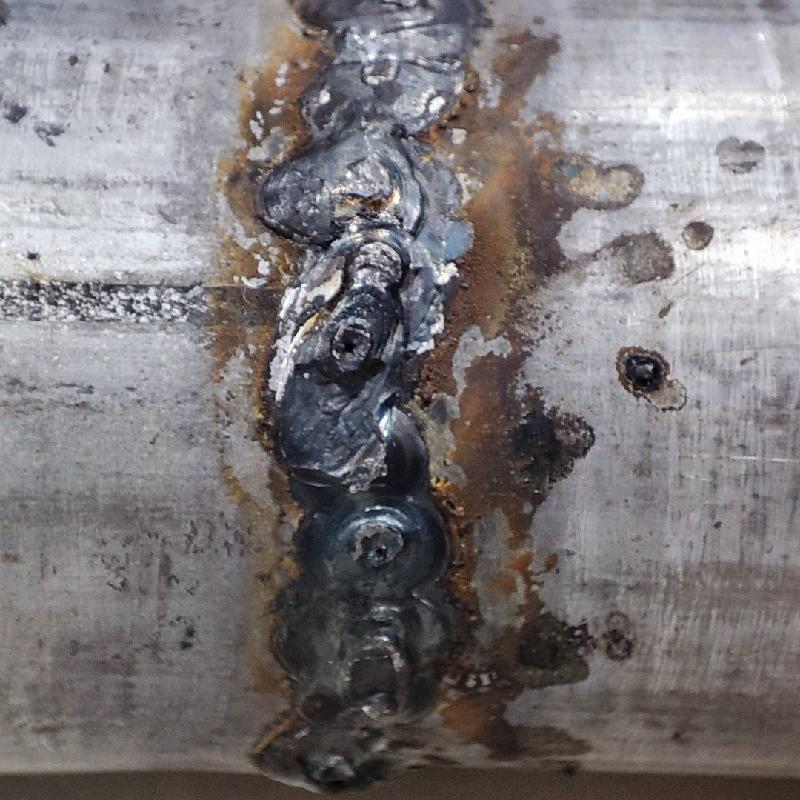Surface_pores: (346, 520, 404, 572), (328, 312, 376, 370)
wrong_size: (272, 2, 459, 764)
